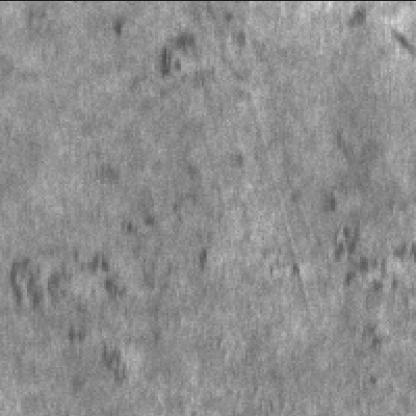rolled-in_scale: (17, 183, 212, 383), (331, 127, 416, 366), (96, 0, 258, 92)
